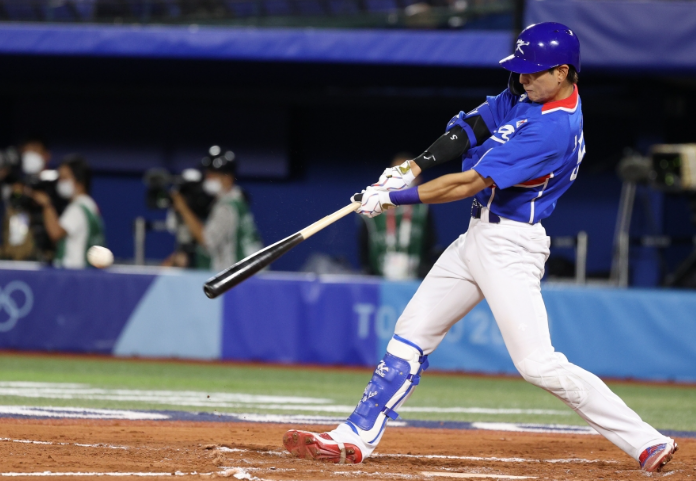ball: (86, 244, 114, 269)
